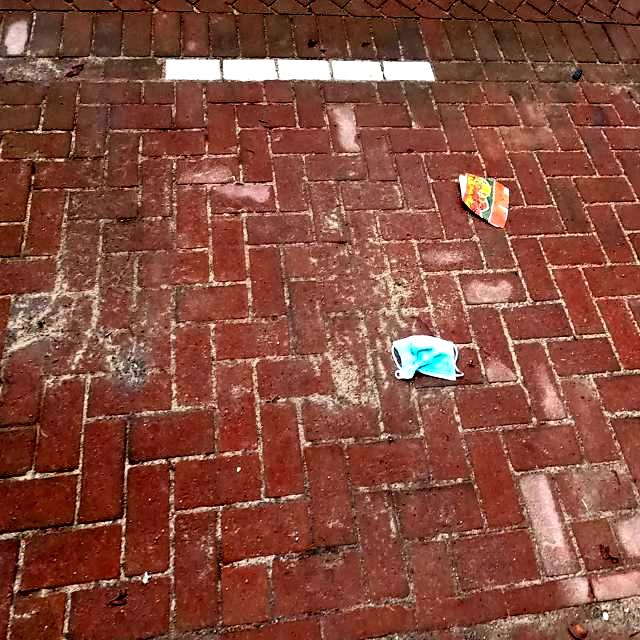Mask: (250, 232, 286, 334)
